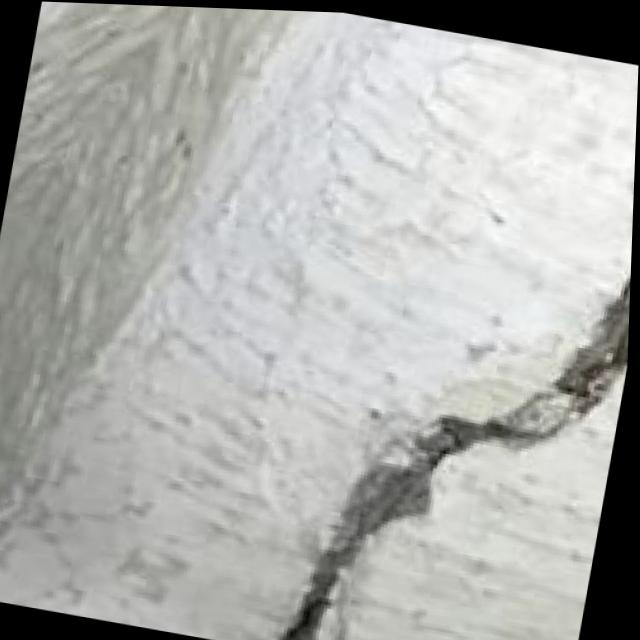Crack: (234, 70, 638, 640)
